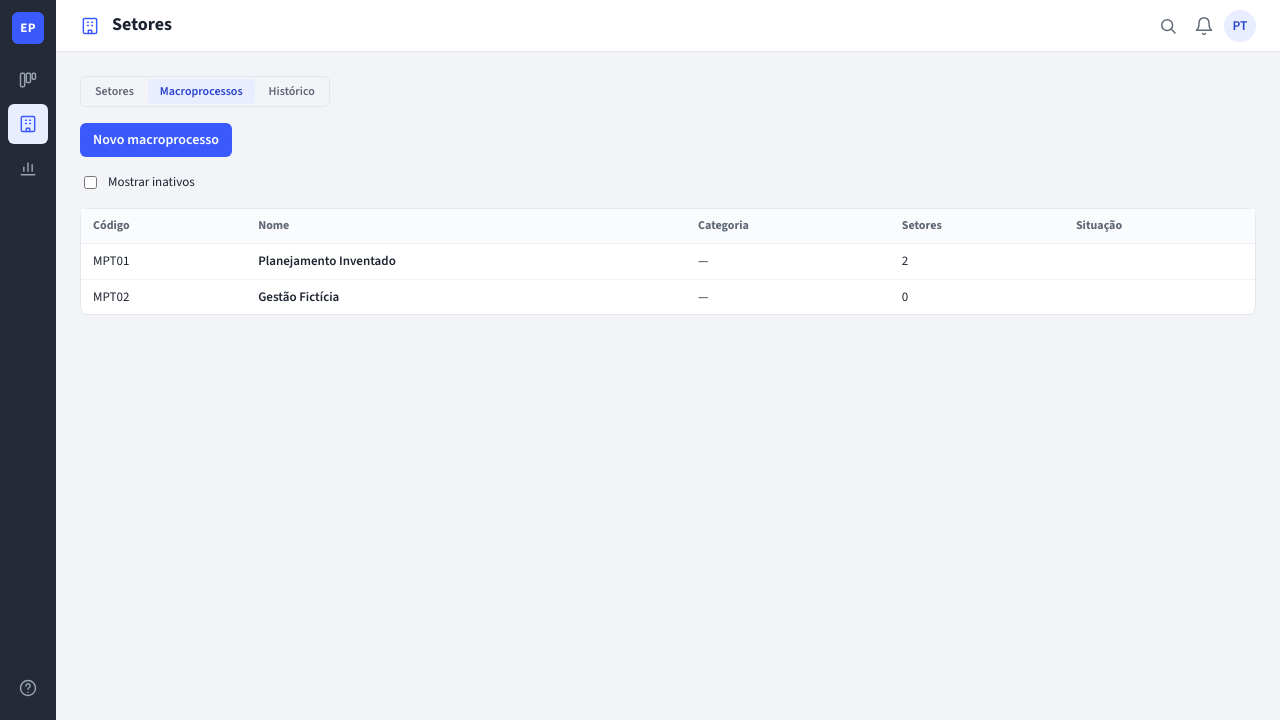
Test: macroprocesso sem setores mostra "Nenhum setor envolvido ainda."
Click the cell "Gestão Fictícia" at (466,297), box [246, 280, 686, 314]
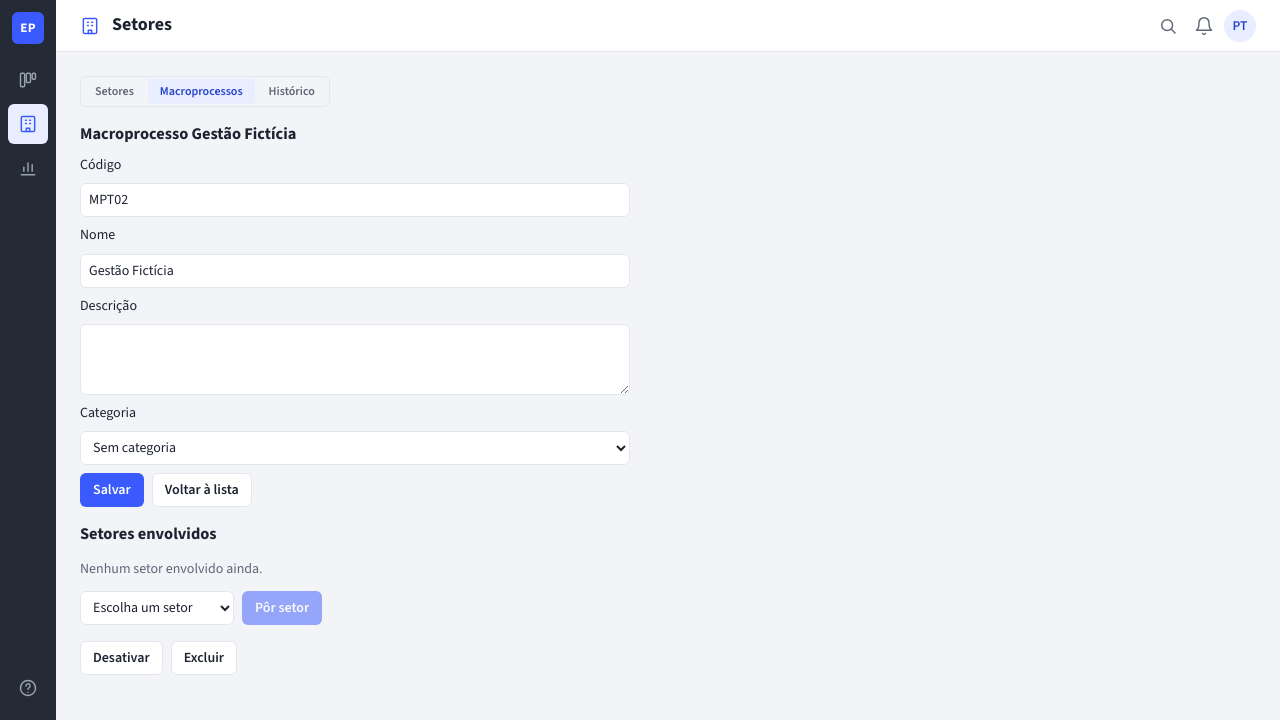
Check: the text "Nenhum setor envolvido ainda." is shown, box [80, 559, 263, 579]
